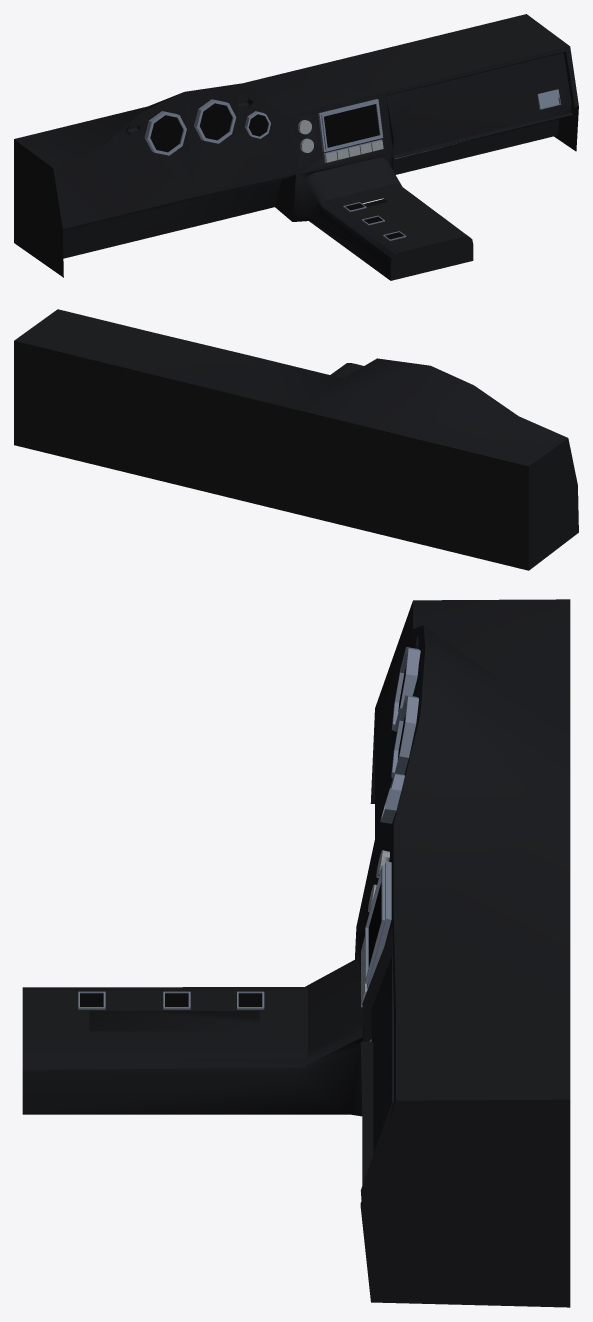
File: dashboard.fbx
3 renders of one model, top to bottom at view 1: azimuth 30°, elevation 25°; view 2: azimuth 150°, elevation 25°; view 3: azimuth 270°, elevation 25°, orthographic. The views are drawn at different scales.
Visible parts, largest first — view 1: Dashboard; view 2: Dashboard; view 3: Dashboard.
Boxes of the visible parts, x1,y1,x2,y2 form: Dashboard: (14, 14, 578, 280); Dashboard: (14, 309, 578, 570); Dashboard: (22, 599, 570, 1307).
Bounding box in the file's own units: 76.95 × 20.79 × 35.58.
